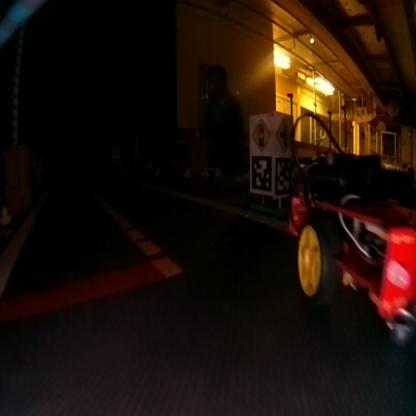duckiebot: (284, 103, 416, 368)
